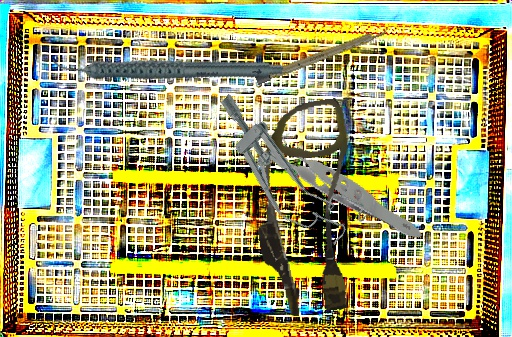Cannula: (239, 97, 374, 320)
Handpiece: (50, 8, 285, 124)
Scalpel Handle: (255, 26, 390, 85)
Speculum: (192, 83, 372, 260)
Tissue Forceps: (261, 87, 424, 280)
